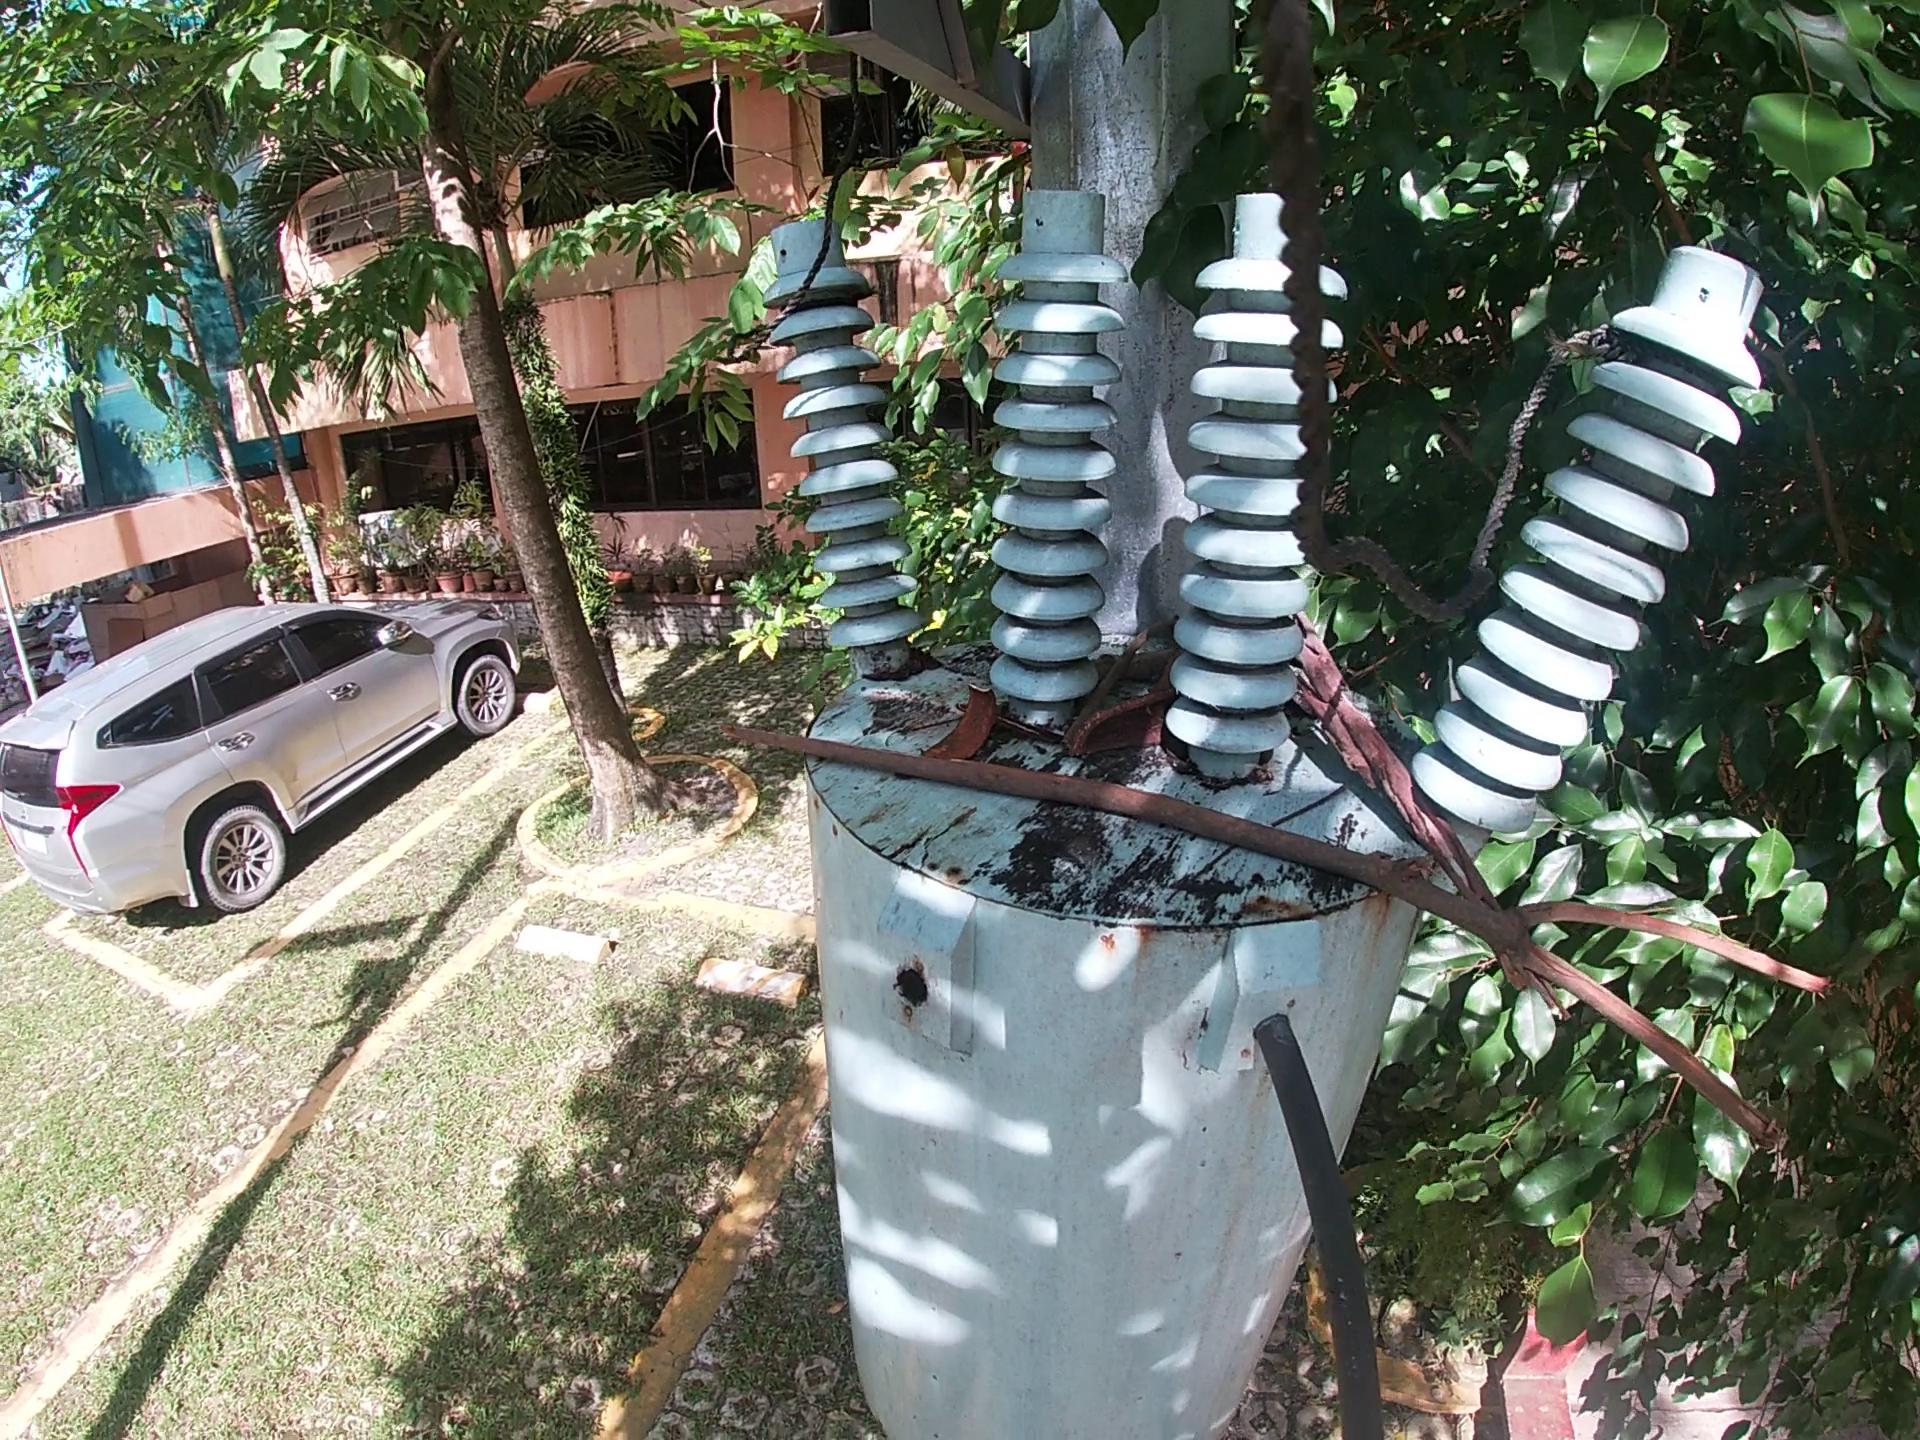mahogany fruit: (903, 688, 1020, 782), (1070, 705, 1191, 771)
tree branch: (695, 725, 1891, 1153), (1288, 616, 1513, 905), (1169, 777, 1367, 902), (1058, 614, 1178, 743), (1092, 646, 1176, 687), (884, 722, 946, 749)
